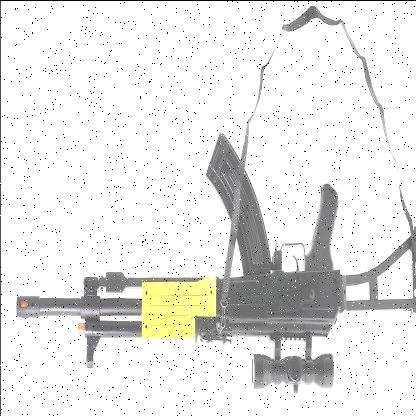rifle: (10, 128, 416, 404)
